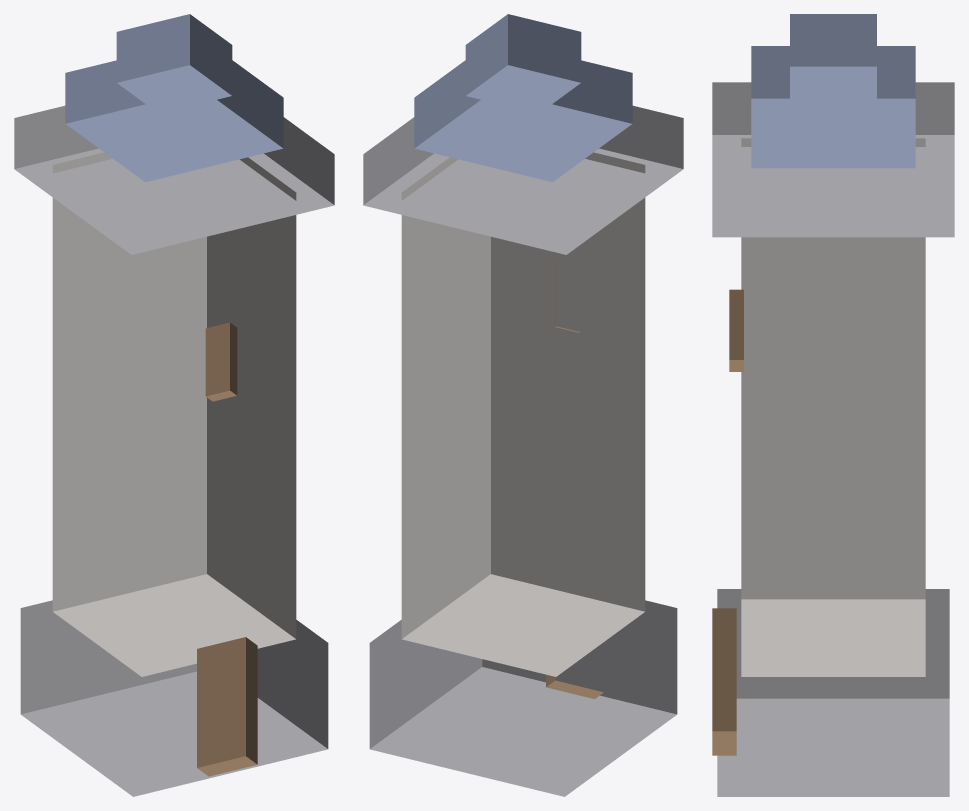
Rendered from bld-tower-a.glb.
3 views of the same model, side by side, from view 1: azimuth 30°, elevation 25°; view 2: azimuth 150°, elevation 25°; view 3: azimuth 270°, elevation 25° (orthographic). The views are drawn at different scales.
Size of the model in its own units: 1 by 3.26 by 1.
